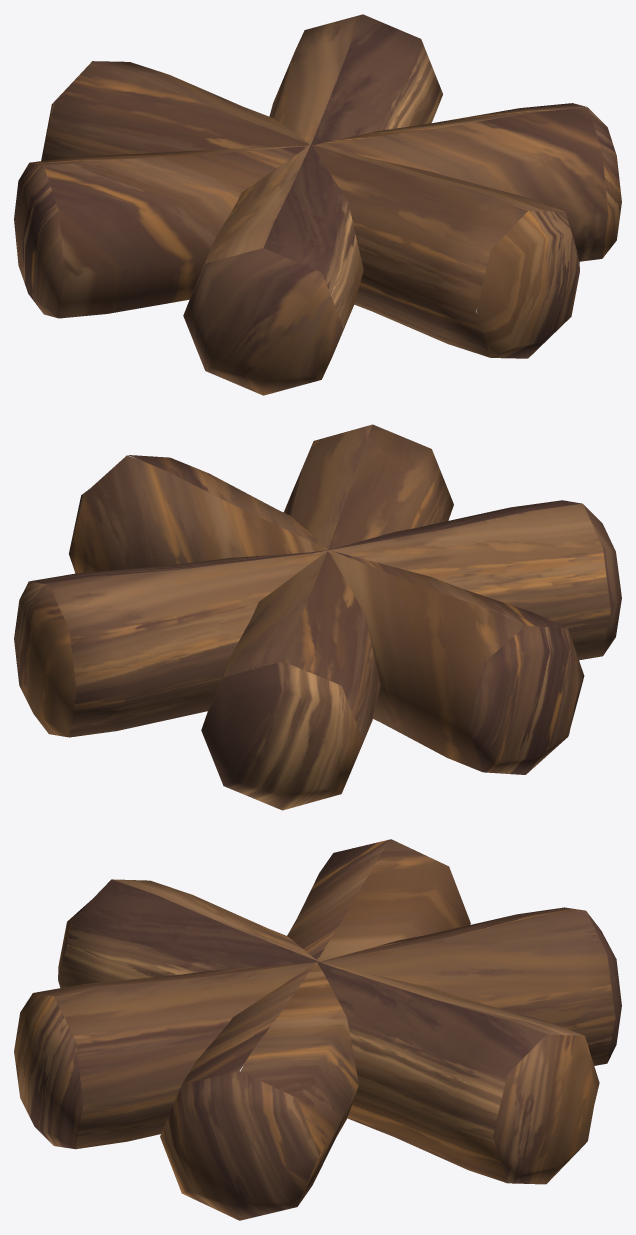
The model's file is Fogata.fbx.
3 views of the same model, one above another, from view 1: azimuth 30°, elevation 25°; view 2: azimuth 150°, elevation 25°; view 3: azimuth 270°, elevation 25° (orthographic).
Parts seen in each view (by area): view 1: Cube.002; view 2: Cube.002; view 3: Cube.002.
Boxes of the visible parts, box(x1,y1,x2,y2) form: Cube.002: box(14, 14, 621, 395); Cube.002: box(14, 424, 621, 810); Cube.002: box(14, 839, 621, 1220).
Size of the model in its own units: 651 by 176 by 643.
